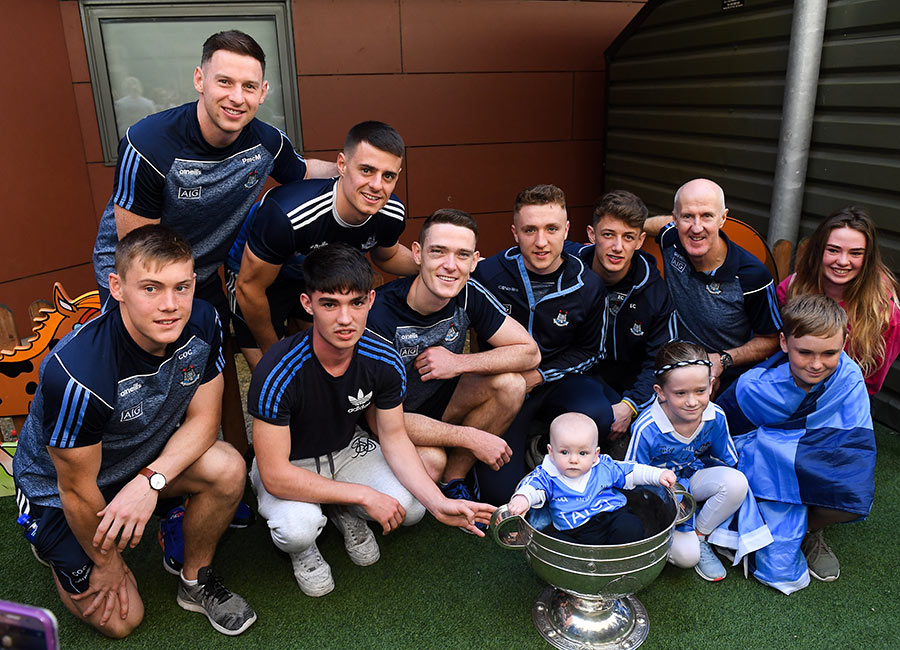player: (48, 240, 242, 590), (91, 18, 291, 265), (379, 190, 509, 512), (263, 251, 401, 544), (732, 294, 888, 536), (468, 162, 597, 414), (629, 156, 765, 361), (553, 170, 663, 380), (291, 105, 422, 275), (620, 344, 746, 508), (502, 422, 641, 543), (782, 181, 885, 313)
